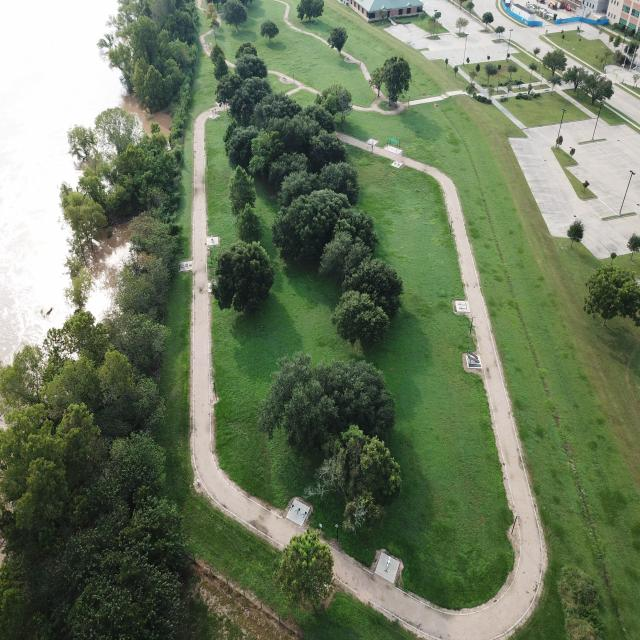fire: (0, 0, 148, 362), (86, 226, 128, 319)
